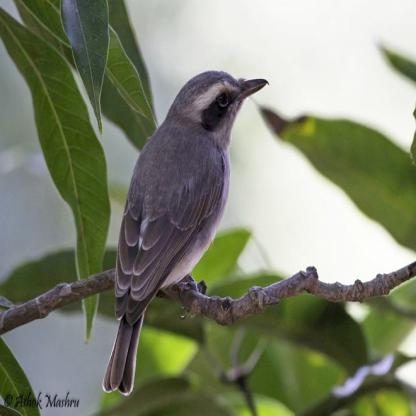Burung: (101, 70, 268, 394)
